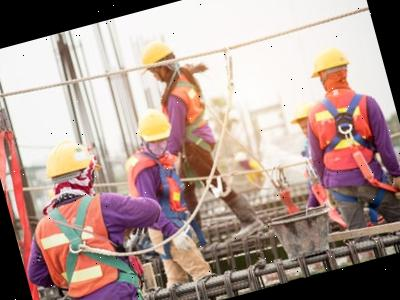helmet: (36, 135, 94, 180), (131, 104, 177, 146), (303, 40, 350, 80), (130, 38, 178, 77)
wear: (41, 191, 139, 300), (306, 85, 386, 180), (124, 148, 191, 231), (161, 66, 216, 150)
